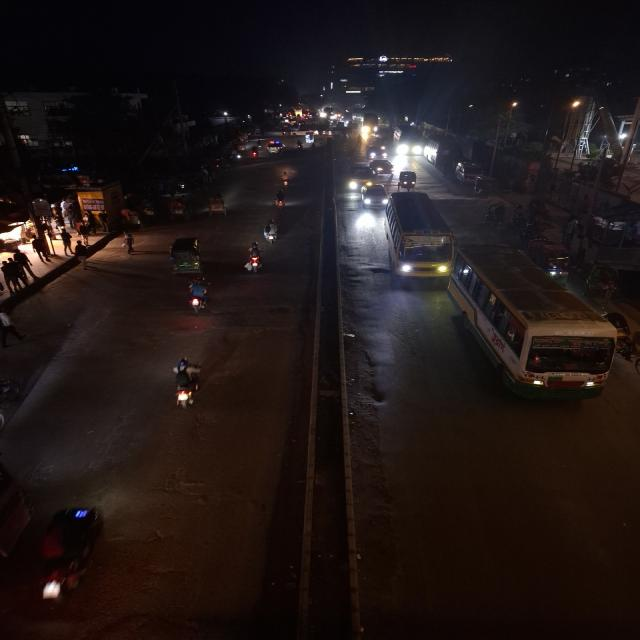bus: (445, 244, 625, 404), (382, 188, 456, 285), (422, 133, 453, 166), (394, 125, 422, 157)
car: (361, 182, 388, 210), (346, 163, 374, 188), (368, 158, 394, 178), (364, 144, 389, 160), (267, 141, 284, 153)
cng: (163, 236, 206, 276), (396, 168, 420, 190)
motorcycle: (166, 354, 208, 412), (180, 277, 217, 317), (242, 242, 269, 275), (260, 219, 281, 246), (268, 188, 290, 210), (277, 168, 293, 186)
pedestrian: (59, 229, 77, 255), (119, 231, 138, 254)
rickshaw: (26, 501, 109, 609), (163, 237, 207, 276), (584, 262, 622, 302), (200, 192, 231, 219), (164, 197, 192, 223), (396, 169, 419, 191)
